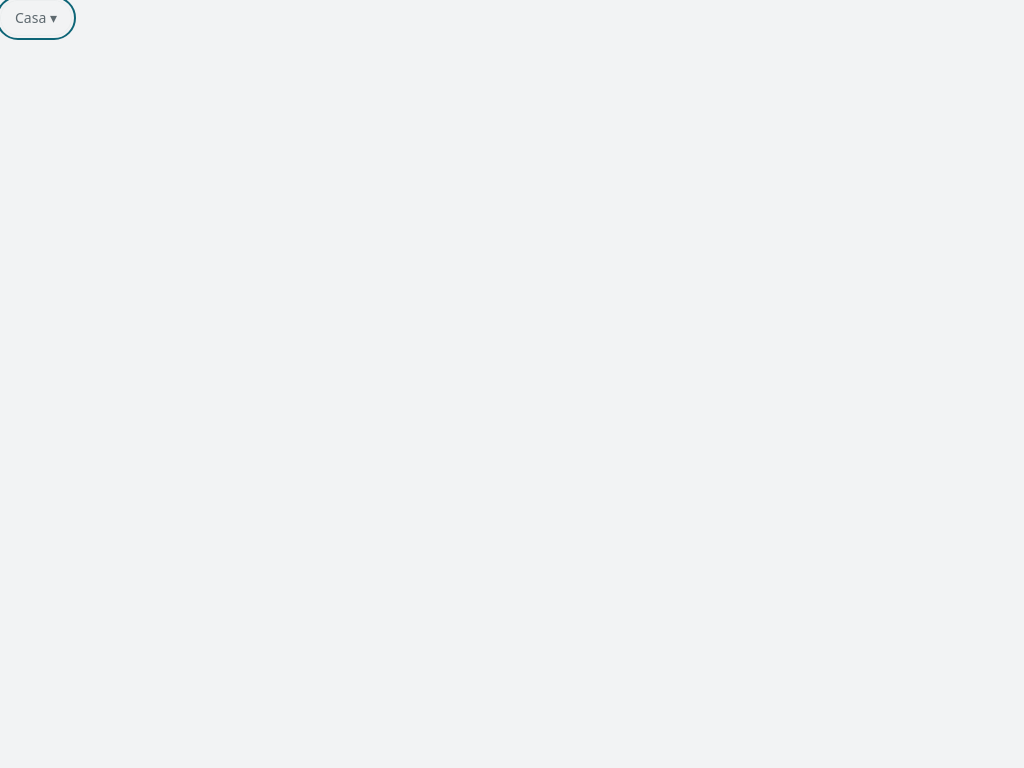
Test: WalletPicker › works with the keyboard
Press Enter
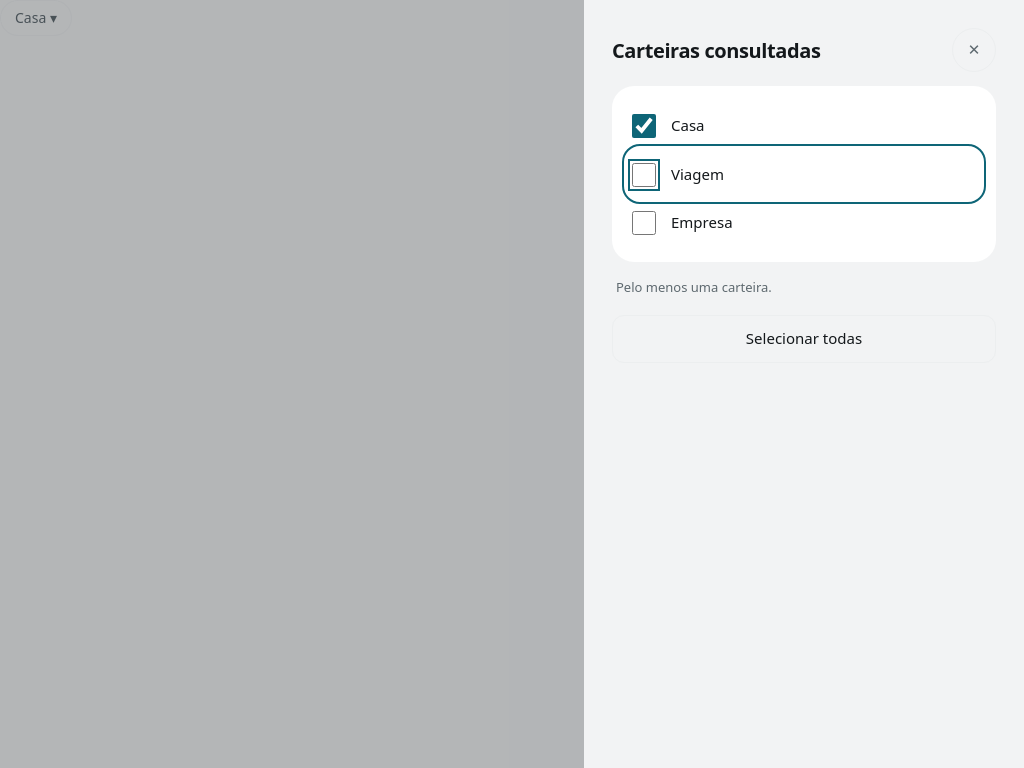
Type keys " "
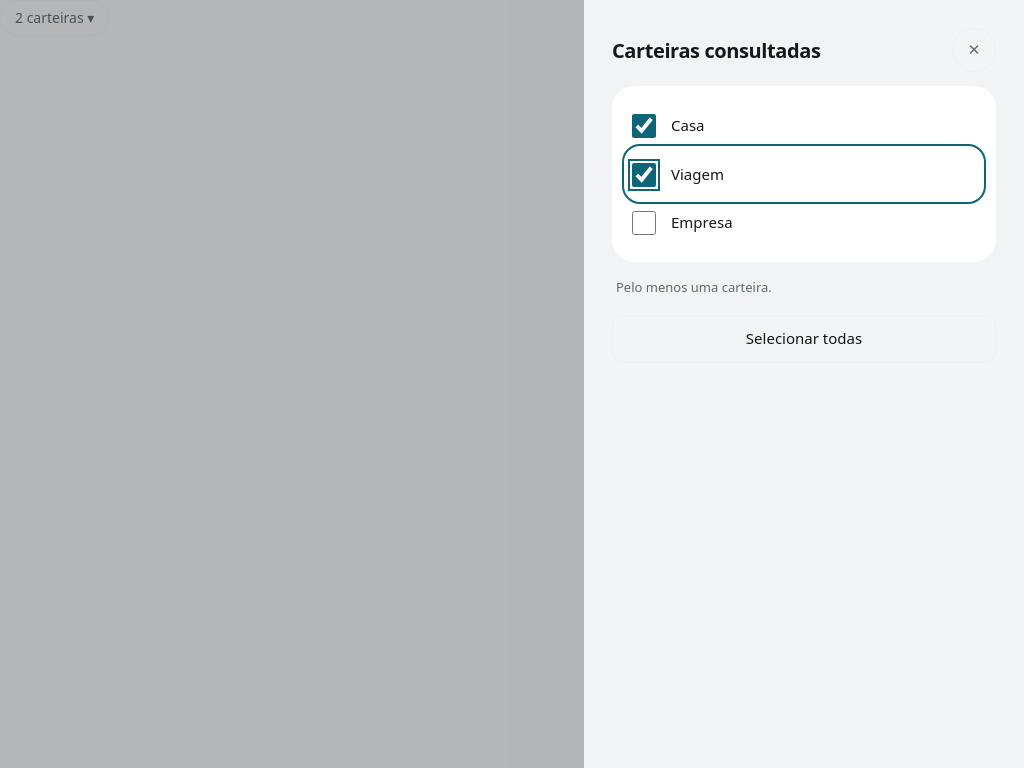
Click the button named "Fechar": (974, 50) [952,28,996,72]
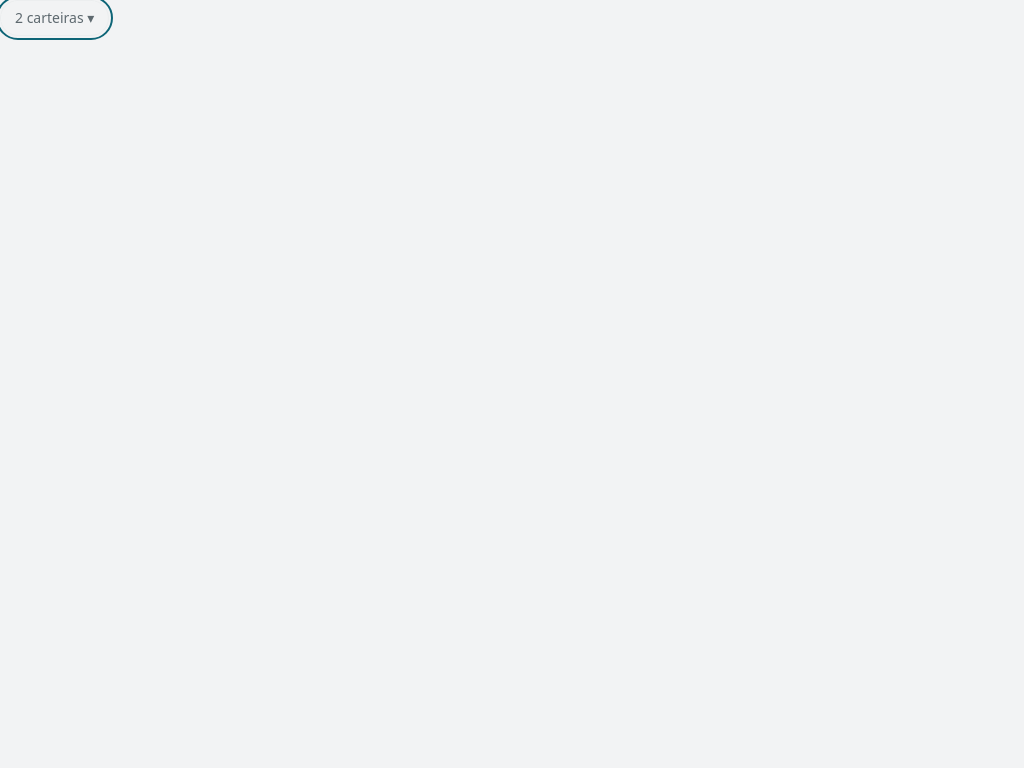
Now the button "2 carteiras ▾" is shown, box [0,0,109,36]
Now the dialog is gone
